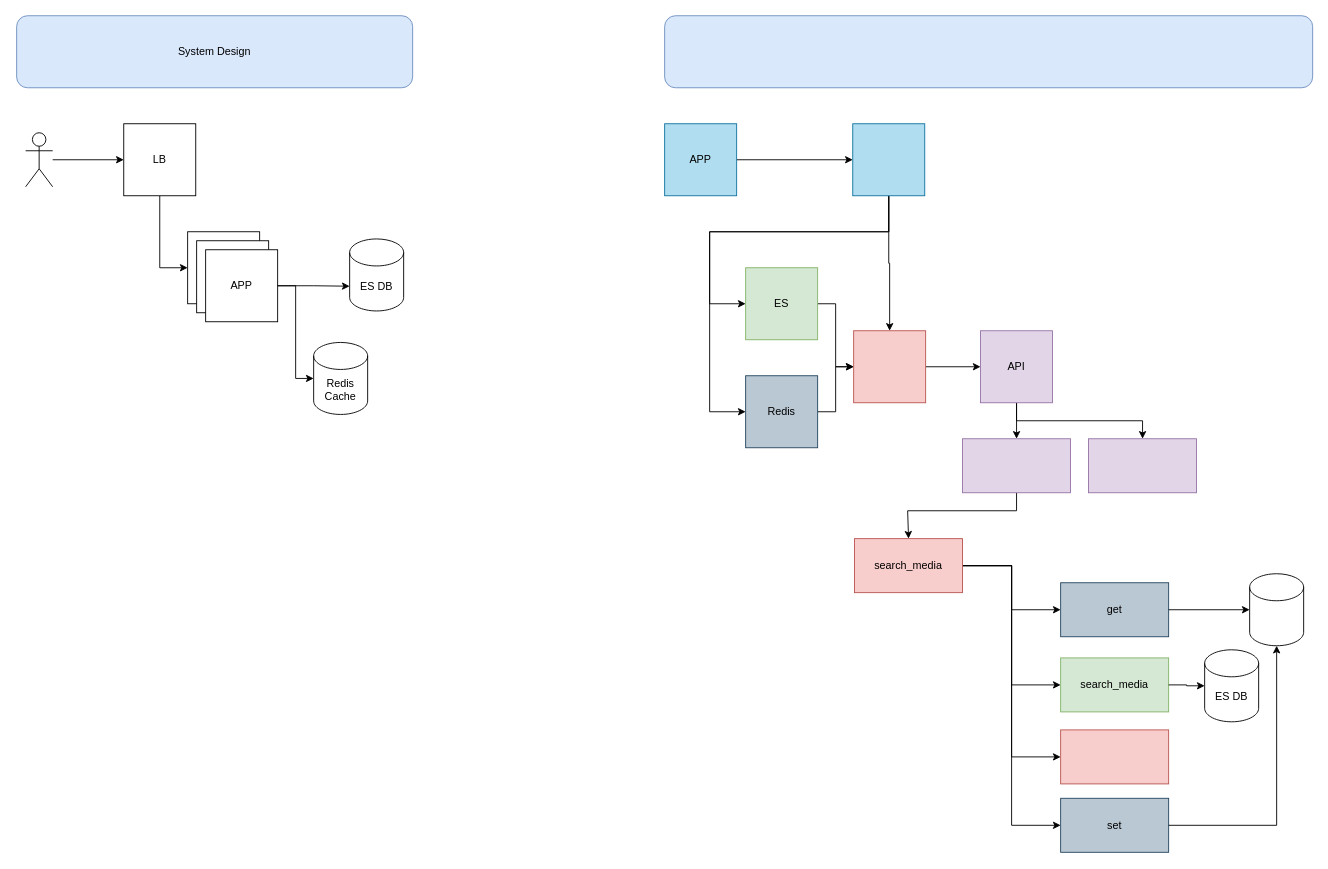
Image size: 1328x869. Some labels were removed from this diagram. The shapes that lost their labels are listed below. From the top down, each one's centre as x and y in pixels, then its label:
[988,51]: App Design
[39,159]: Customer
[888,159]: MAIN
[889,366]: Service
[1016,465]: /api/media/search
[1142,465]: /health
[1276,609]: Redis DB
[1114,756]: generate_image_url
